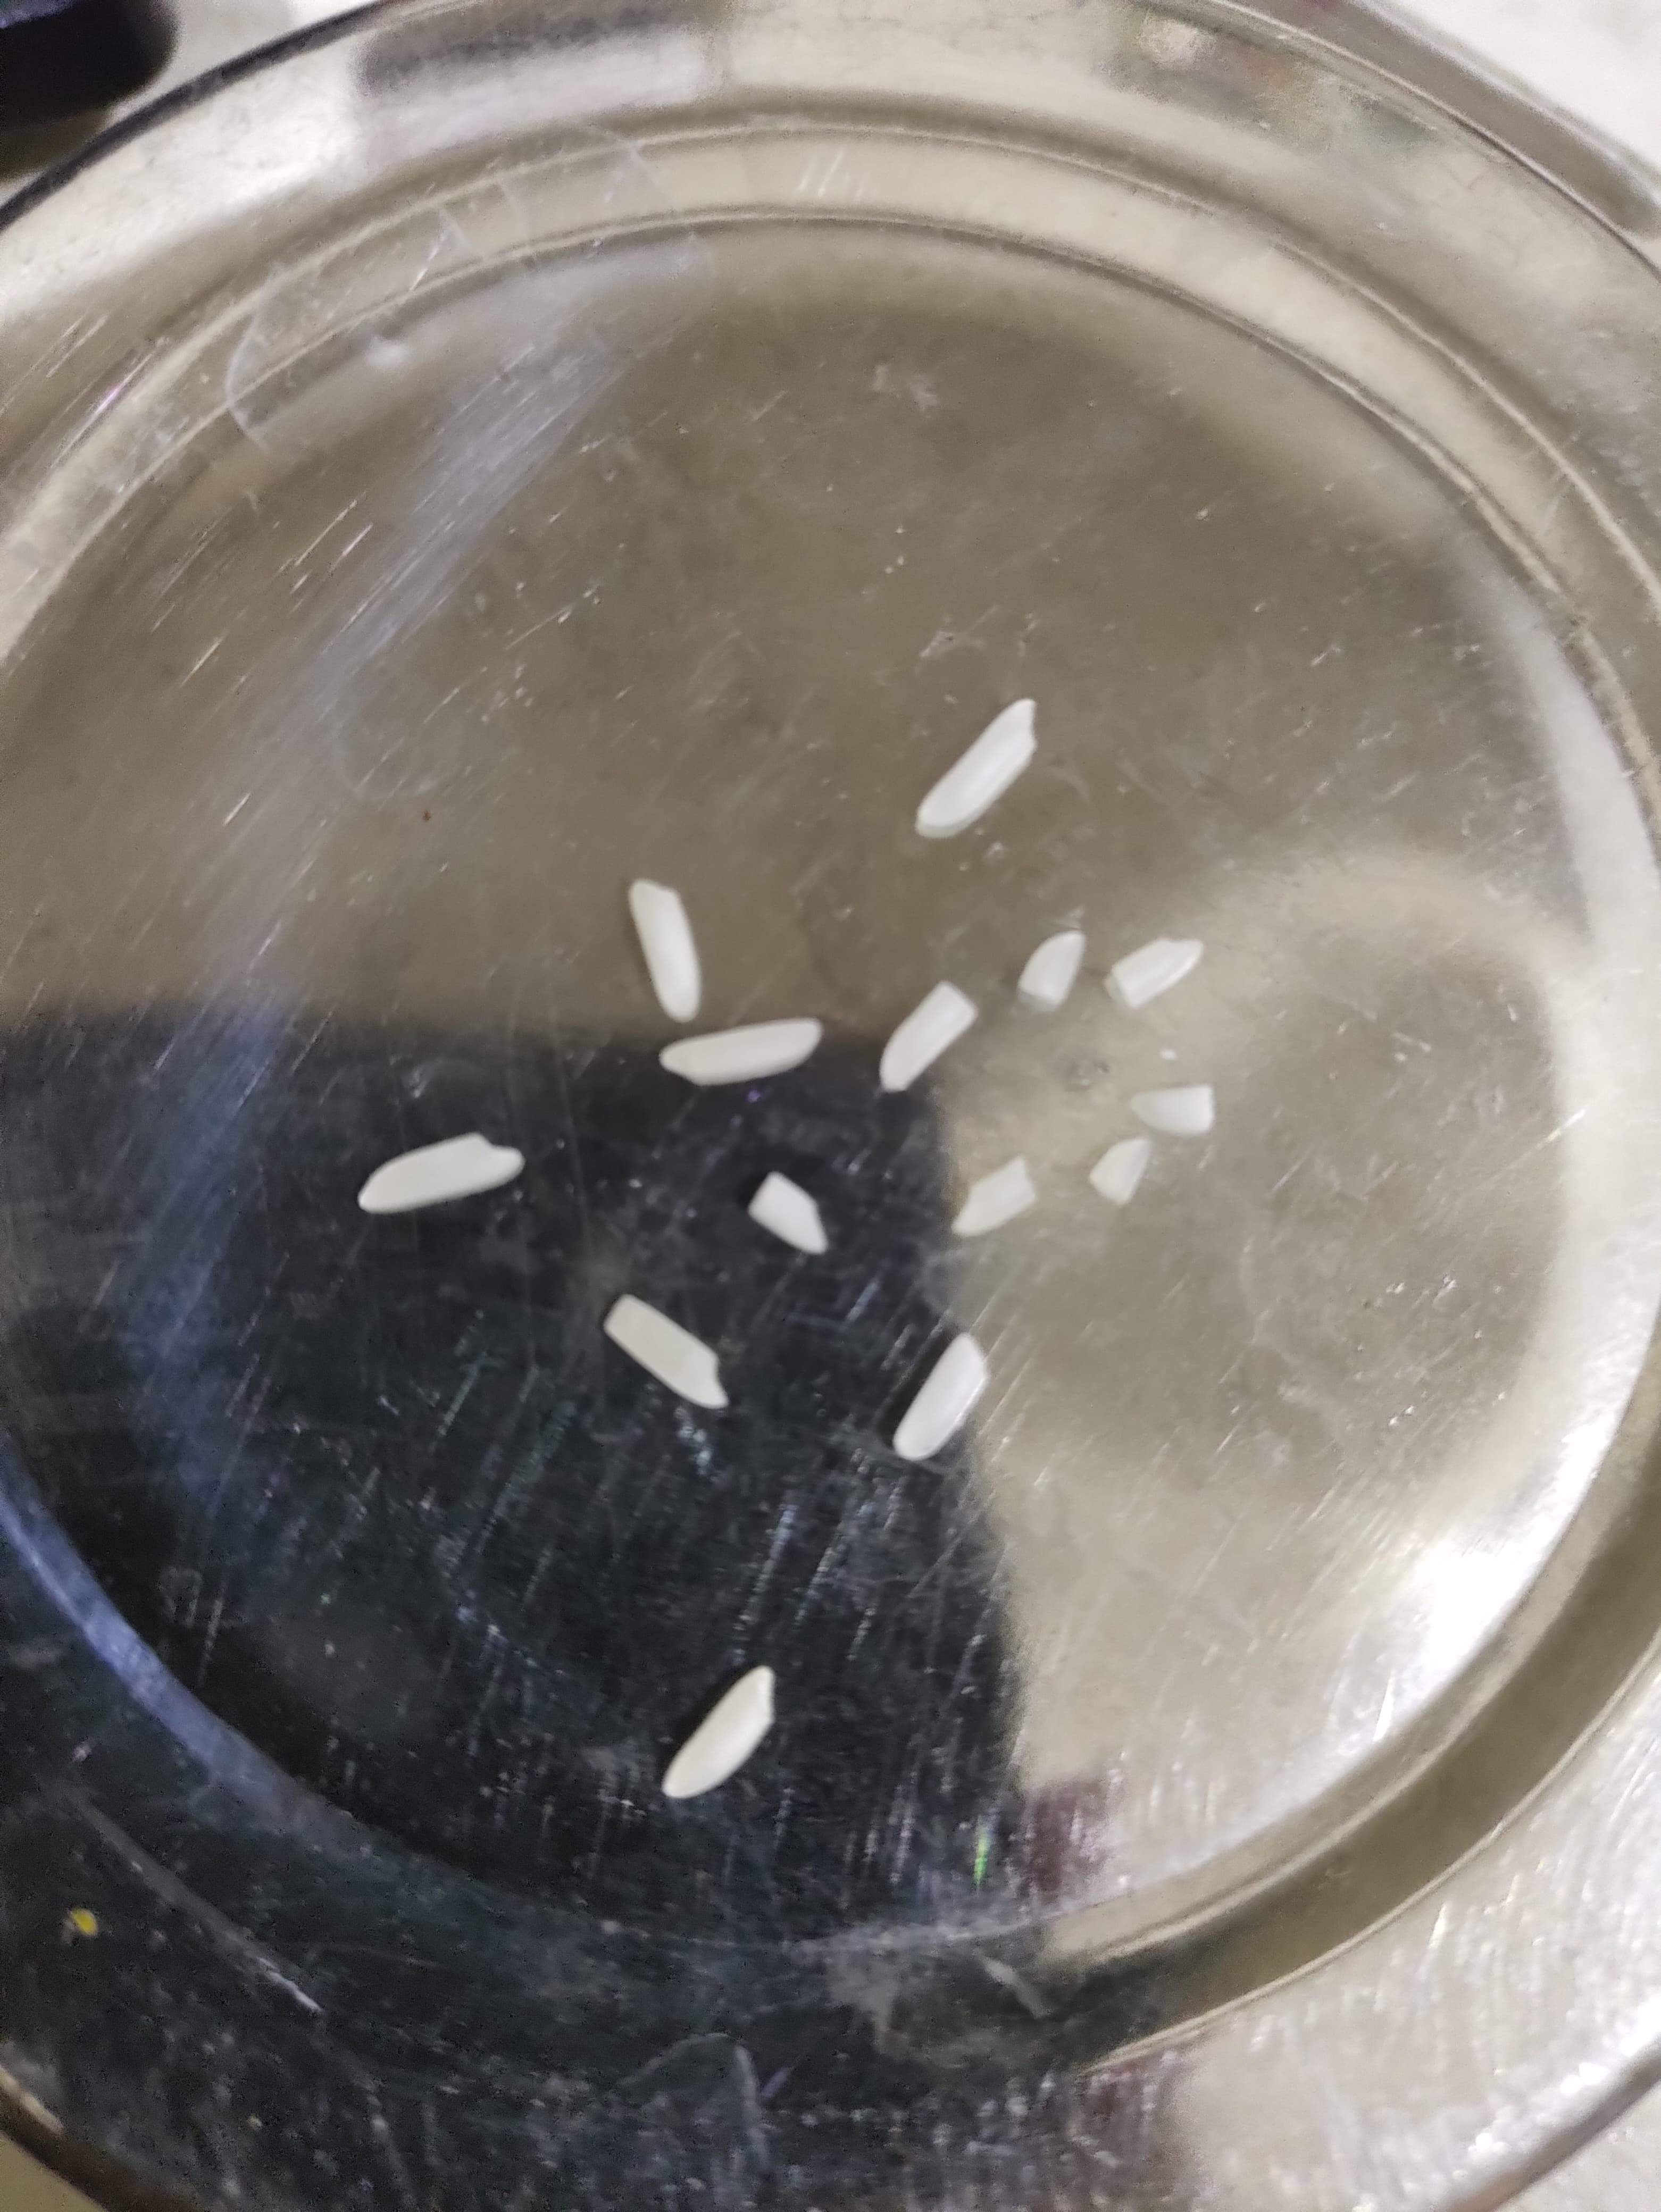broken_grain: (591, 1276, 746, 1425), (878, 1314, 1008, 1487), (874, 961, 989, 1106), (740, 1159, 853, 1276), (938, 1153, 1050, 1249), (1072, 1125, 1172, 1227), (1108, 923, 1214, 1015), (1004, 923, 1097, 1015), (1116, 1078, 1233, 1142)
complete_grain: (908, 678, 1046, 857), (648, 1646, 787, 1816), (340, 1121, 538, 1231), (614, 861, 708, 1034), (648, 1015, 838, 1097)
